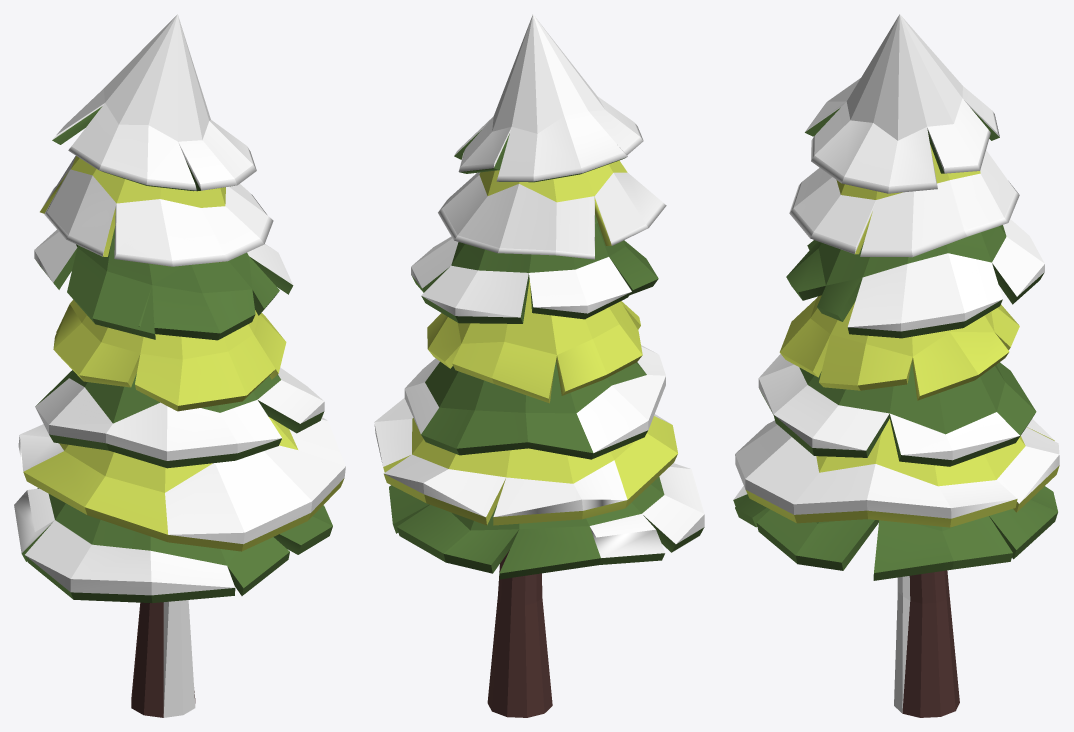
File: Conifer Tree_6 Snow.fbx
3 renders of one model, left to right at view 1: azimuth 30°, elevation 25°; view 2: azimuth 150°, elevation 25°; view 3: azimuth 270°, elevation 25°, orthographic. The views are drawn at different scales.
Visible parts, largest first — view 1: Conifer Tree_6 Snow; view 2: Conifer Tree_6 Snow; view 3: Conifer Tree_6 Snow.
Boxes of the visible parts, x1,y1,x2,y2 form: Conifer Tree_6 Snow: (14, 14, 345, 717); Conifer Tree_6 Snow: (374, 14, 704, 717); Conifer Tree_6 Snow: (733, 14, 1059, 717).
Bounding box in the file's own units: 2.01 × 4.69 × 2.01.
